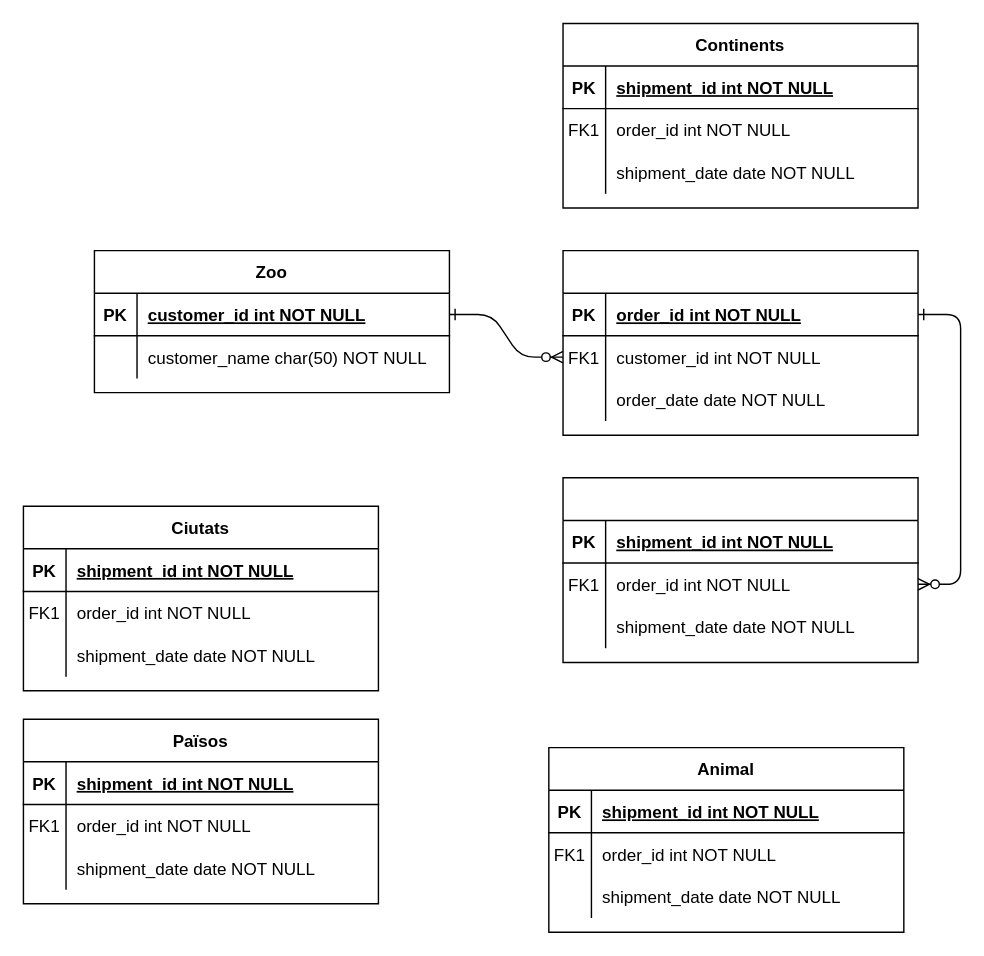
The diagram is 984 pixels wide and 956 high, and some of its shapes have lost their labels. Each missing label, with the box of its shape:
Familia: (562, 249, 918, 435)
Presupostos: (562, 476, 918, 662)
